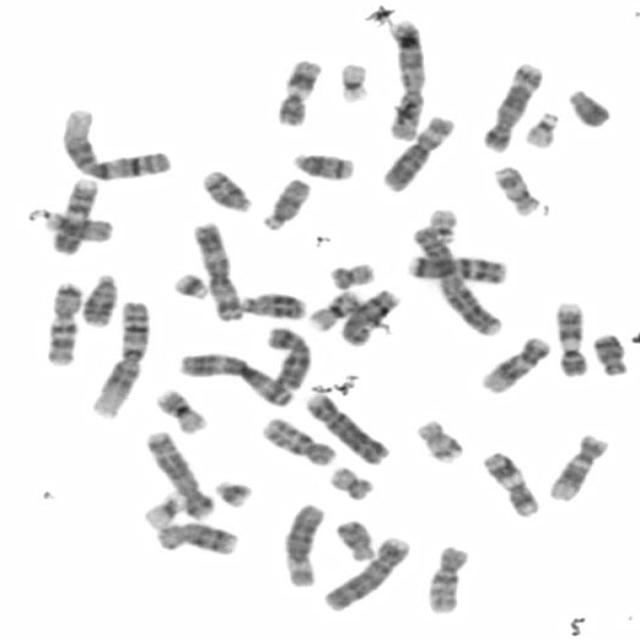A1: (58, 107, 174, 182), (90, 299, 150, 421)
A2: (410, 223, 505, 338), (382, 18, 429, 145)
A3: (176, 351, 294, 409), (193, 222, 243, 322)
B4: (319, 535, 413, 615), (306, 392, 392, 466)
B5: (146, 430, 215, 520), (482, 58, 546, 155)
C10: (259, 416, 339, 468), (424, 544, 472, 618)
C11: (485, 449, 542, 520), (276, 55, 323, 131)
C12: (477, 336, 550, 399), (548, 434, 613, 504)
C6: (378, 115, 458, 193), (282, 502, 326, 590)
C7: (406, 253, 508, 288), (44, 282, 84, 368)
C8: (339, 287, 401, 350), (152, 521, 242, 557)
C9: (50, 176, 102, 256), (554, 299, 590, 378)
D13: (81, 272, 119, 328), (237, 290, 307, 320)
D14: (202, 170, 253, 213), (292, 151, 358, 183)
D15: (26, 207, 118, 244), (260, 178, 312, 232)
E16: (307, 285, 366, 334), (154, 388, 210, 436)
E17: (492, 162, 542, 218), (416, 418, 468, 468)
E18: (591, 330, 629, 380), (335, 518, 376, 562)
F19: (136, 488, 190, 531), (334, 60, 375, 107)
F20: (329, 259, 383, 290), (330, 467, 374, 503)
G21: (211, 476, 257, 510), (171, 272, 211, 302)
G22: (520, 108, 562, 149), (426, 206, 461, 246)
X: (264, 326, 315, 391)
Y: (565, 88, 613, 130)
